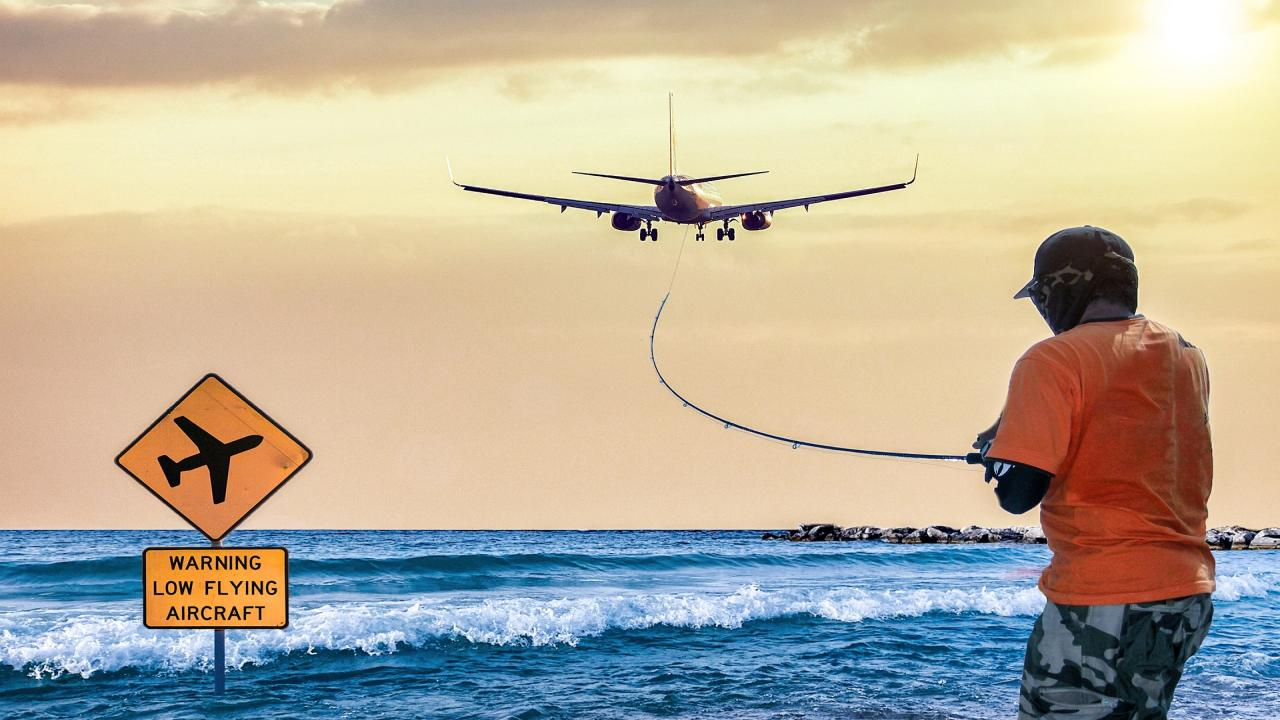Airplane: (436, 85, 937, 258)
